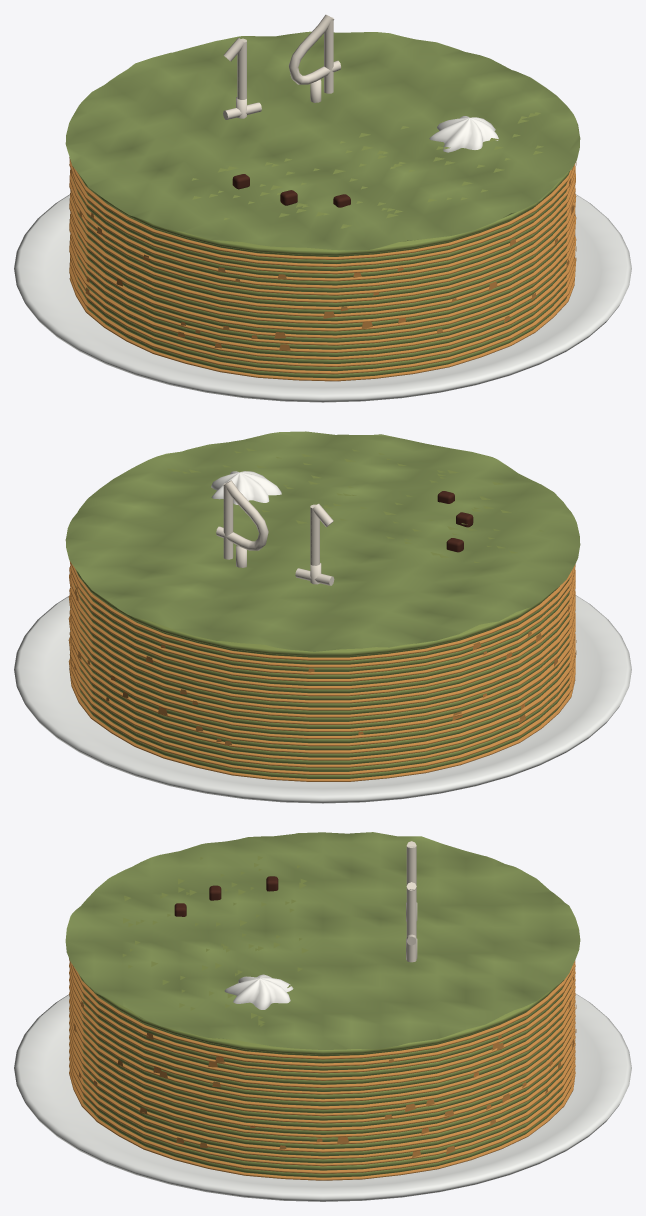
Rendered from cake-14.6c8230d4cc29.glb.
3 views of the same model, one above another, from view 1: azimuth 30°, elevation 25°; view 2: azimuth 150°, elevation 25°; view 3: azimuth 270°, elevation 25° (orthographic).
Parts seen in each view (by area): view 1: Irregular_hand_spread_food_surface, PART_FOOD_ROOT_MAT_matcha, PART_FOOD_ROOT_MAT_sponge, Clean_porcelain_plate, PART_FOOD_ROOT_MAT_pearl_wax, Soft_cream_fold, PART_FOOD_ROOT_MAT_cocoa; view 2: Irregular_hand_spread_food_surface, PART_FOOD_ROOT_MAT_matcha, PART_FOOD_ROOT_MAT_sponge, Clean_porcelain_plate, PART_FOOD_ROOT_MAT_pearl_wax, Soft_cream_fold, PART_FOOD_ROOT_MAT_cocoa; view 3: Irregular_hand_spread_food_surface, PART_FOOD_ROOT_MAT_matcha, PART_FOOD_ROOT_MAT_sponge, Clean_porcelain_plate, Soft_cream_fold, PART_FOOD_ROOT_MAT_pearl_wax, PART_FOOD_ROOT_MAT_cocoa.
Part boxes in pixels (x1,y1,x2,y2): Irregular_hand_spread_food_surface: (65,31,580,250); PART_FOOD_ROOT_MAT_matcha: (73,112,569,378); PART_FOOD_ROOT_MAT_sponge: (69,157,576,381); Clean_porcelain_plate: (14,194,631,402); PART_FOOD_ROOT_MAT_pearl_wax: (223,14,340,119); Soft_cream_fold: (429,116,498,152); PART_FOOD_ROOT_MAT_cocoa: (232,174,350,207); Irregular_hand_spread_food_surface: (65,431,580,651); PART_FOOD_ROOT_MAT_matcha: (73,448,569,778); PART_FOOD_ROOT_MAT_sponge: (68,561,576,781); Clean_porcelain_plate: (14,595,631,803); PART_FOOD_ROOT_MAT_pearl_wax: (216,480,334,585); Soft_cream_fold: (211,471,281,504); PART_FOOD_ROOT_MAT_cocoa: (437,491,473,552); Irregular_hand_spread_food_surface: (65,832,580,1049); PART_FOOD_ROOT_MAT_matcha: (76,856,571,1177); PART_FOOD_ROOT_MAT_sponge: (69,958,576,1180); Clean_porcelain_plate: (14,993,631,1201); Soft_cream_fold: (224,974,293,1009); PART_FOOD_ROOT_MAT_pearl_wax: (406,841,417,962); PART_FOOD_ROOT_MAT_cocoa: (174,876,278,916).
Size of the model in its own units: 0.1952 by 0.078 by 0.1952.
